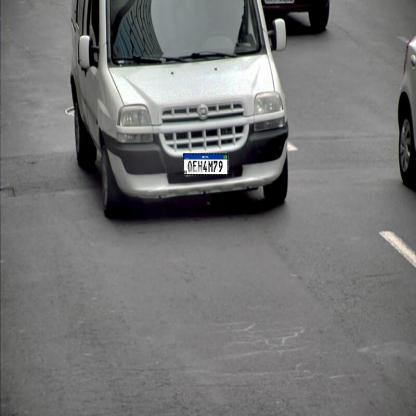PlacaM: (183, 154, 228, 176)
